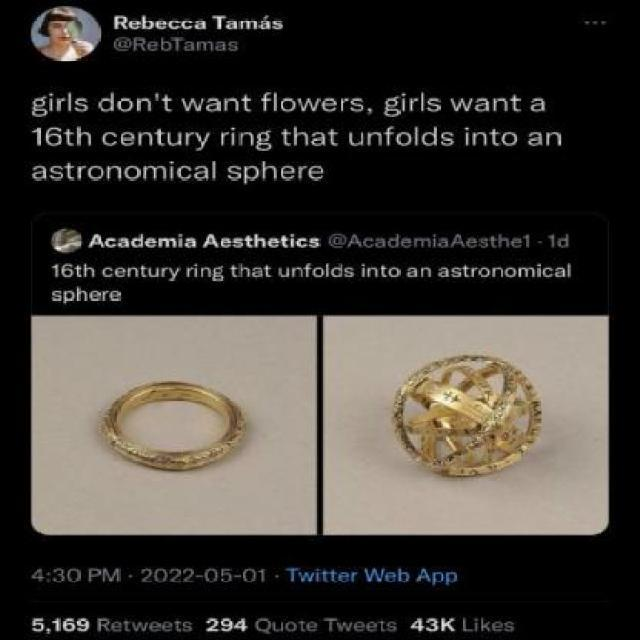0: (68, 568, 82, 582), (154, 568, 168, 582), (204, 568, 218, 582), (242, 568, 256, 582)
1: (32, 128, 40, 146), (51, 618, 60, 632), (547, 234, 555, 248), (257, 568, 265, 582), (524, 234, 530, 248), (52, 264, 58, 278)
2: (140, 568, 154, 582), (206, 618, 220, 632), (169, 568, 182, 582), (182, 568, 195, 582)
3: (426, 618, 440, 634), (52, 568, 66, 582)
4: (234, 618, 248, 632), (410, 618, 424, 632), (32, 568, 42, 582)
5: (219, 568, 233, 582), (30, 618, 44, 632)
6: (45, 127, 63, 147), (60, 263, 74, 279), (62, 618, 76, 632)
9: (76, 616, 90, 632), (220, 618, 234, 634)
A: (450, 232, 466, 248), (202, 234, 220, 248), (474, 99, 492, 112), (310, 132, 326, 146), (528, 131, 542, 147), (32, 166, 48, 180), (89, 234, 105, 248), (416, 568, 432, 582), (529, 99, 546, 112), (194, 166, 209, 180), (348, 234, 362, 248), (207, 99, 222, 112), (258, 18, 271, 30), (214, 40, 228, 51), (182, 40, 195, 51), (184, 238, 198, 248), (226, 18, 237, 30), (554, 267, 566, 278), (407, 267, 418, 278), (438, 267, 449, 278), (118, 238, 130, 248), (374, 238, 386, 248), (438, 238, 450, 248), (252, 267, 262, 278), (194, 20, 206, 29)
B: (142, 16, 155, 29), (398, 568, 410, 582), (162, 38, 172, 52)
C: (177, 166, 192, 180), (103, 132, 117, 146), (181, 19, 194, 30), (101, 267, 114, 278), (541, 267, 554, 278), (104, 238, 118, 248), (294, 238, 308, 248), (169, 19, 180, 30), (363, 238, 374, 248)
D: (98, 92, 114, 112), (422, 127, 438, 147), (388, 232, 400, 248), (131, 234, 144, 248), (556, 234, 569, 248), (332, 263, 342, 277)
E: (119, 131, 136, 147), (320, 98, 338, 111), (308, 166, 324, 180), (280, 166, 296, 179), (109, 620, 123, 634), (306, 620, 320, 632), (154, 19, 168, 30), (146, 40, 160, 51), (88, 290, 101, 301), (108, 290, 121, 301), (144, 238, 158, 248), (400, 238, 414, 248), (384, 572, 398, 582), (352, 622, 366, 632), (364, 622, 378, 632), (510, 237, 522, 248), (114, 267, 126, 278), (148, 622, 161, 632), (491, 622, 504, 632), (129, 19, 140, 30), (220, 238, 232, 248), (268, 238, 280, 248), (338, 572, 350, 582), (466, 238, 477, 248), (162, 622, 172, 632)
F: (260, 92, 272, 112), (384, 125, 394, 147), (304, 263, 312, 279)
G: (30, 95, 50, 118), (256, 130, 273, 152), (384, 95, 399, 116), (212, 266, 225, 282)
H: (76, 125, 93, 146), (294, 126, 310, 146), (262, 160, 278, 178), (254, 232, 266, 248), (498, 234, 509, 248), (240, 264, 251, 278), (76, 287, 87, 301), (84, 264, 95, 278)
I: (230, 126, 236, 146), (464, 126, 470, 146), (168, 160, 174, 180), (178, 234, 184, 248), (402, 92, 406, 112), (50, 93, 54, 112), (289, 234, 294, 248), (432, 234, 437, 248), (194, 264, 198, 278), (474, 617, 478, 631), (316, 568, 319, 581), (363, 263, 365, 277), (538, 264, 540, 278)
K: (441, 616, 456, 632), (480, 617, 491, 631)
L: (461, 618, 474, 632), (414, 126, 420, 146), (273, 92, 278, 112), (212, 160, 217, 180), (324, 263, 330, 279), (420, 92, 423, 112), (68, 92, 70, 112), (568, 263, 570, 279)
M: (142, 166, 167, 180), (103, 568, 120, 582), (238, 19, 258, 30), (158, 238, 178, 248), (196, 40, 213, 51), (518, 267, 534, 278), (414, 238, 431, 248)
N: (546, 131, 562, 147), (238, 132, 255, 146), (138, 132, 154, 146), (473, 132, 489, 146), (106, 166, 122, 180), (223, 99, 240, 112), (136, 98, 152, 111), (493, 98, 509, 111), (368, 132, 382, 146), (199, 267, 212, 278), (291, 267, 304, 278), (491, 267, 504, 278), (420, 267, 431, 278), (366, 268, 379, 277), (128, 267, 138, 278)
O: (396, 131, 412, 147), (502, 131, 518, 147), (124, 166, 141, 180), (88, 166, 104, 180), (116, 98, 133, 111), (280, 98, 296, 111), (504, 267, 518, 278), (312, 267, 325, 278), (388, 267, 401, 278), (478, 267, 491, 278), (285, 622, 298, 632)
P: (244, 166, 260, 183), (88, 568, 101, 582), (432, 572, 445, 586), (63, 290, 74, 304), (446, 572, 457, 586)
Q: (256, 618, 270, 634)
R: (132, 38, 146, 52), (114, 16, 128, 29), (98, 618, 111, 632), (338, 98, 349, 111), (56, 98, 66, 111), (298, 166, 308, 179), (220, 132, 229, 146), (410, 98, 419, 111), (77, 167, 86, 180), (186, 132, 194, 146), (101, 290, 110, 302), (471, 267, 478, 278), (351, 572, 358, 582), (162, 267, 168, 278), (187, 267, 193, 278)
S: (440, 132, 454, 146), (49, 166, 63, 180), (228, 166, 242, 180), (74, 98, 88, 111), (426, 98, 440, 111), (350, 99, 362, 112), (271, 19, 284, 30), (450, 267, 462, 278), (182, 620, 193, 632), (232, 237, 243, 248), (343, 267, 354, 278), (228, 40, 238, 51), (309, 238, 320, 248), (52, 290, 62, 301), (503, 622, 514, 632), (478, 238, 488, 248), (388, 622, 397, 632)
T: (488, 128, 501, 147), (64, 162, 76, 180), (156, 128, 167, 147), (240, 95, 252, 112), (280, 128, 291, 146), (212, 16, 226, 30), (286, 568, 300, 582), (324, 618, 338, 632), (328, 128, 338, 147), (510, 95, 521, 112), (170, 38, 183, 52), (162, 95, 172, 112), (64, 129, 74, 146), (243, 234, 254, 248), (378, 619, 388, 633), (280, 234, 289, 248), (263, 265, 272, 278), (489, 234, 497, 248), (74, 264, 82, 278), (140, 264, 148, 278), (230, 264, 238, 278), (463, 264, 471, 278), (330, 569, 338, 583), (298, 619, 306, 633), (379, 264, 387, 278), (174, 619, 182, 632), (322, 570, 329, 582), (124, 618, 130, 632)
U: (166, 132, 183, 146), (348, 132, 364, 146), (148, 267, 162, 278), (278, 267, 290, 278), (273, 622, 284, 632)
W: (364, 568, 386, 582), (296, 99, 319, 112), (182, 98, 204, 111), (450, 99, 472, 112), (130, 622, 148, 632), (298, 572, 316, 582), (336, 622, 352, 632)
Y: (196, 131, 210, 151), (168, 267, 180, 281)
